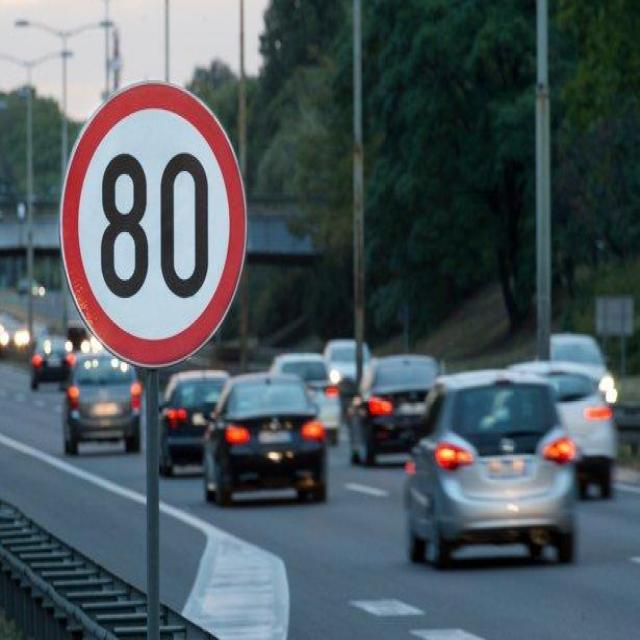speed limit 80: (60, 81, 246, 369)
